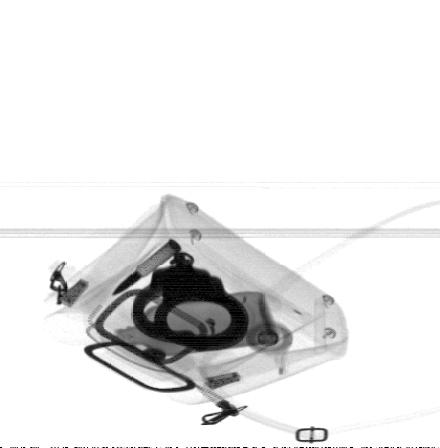Bullet: (112, 238, 181, 297)
HandCuffs: (129, 249, 248, 351)
